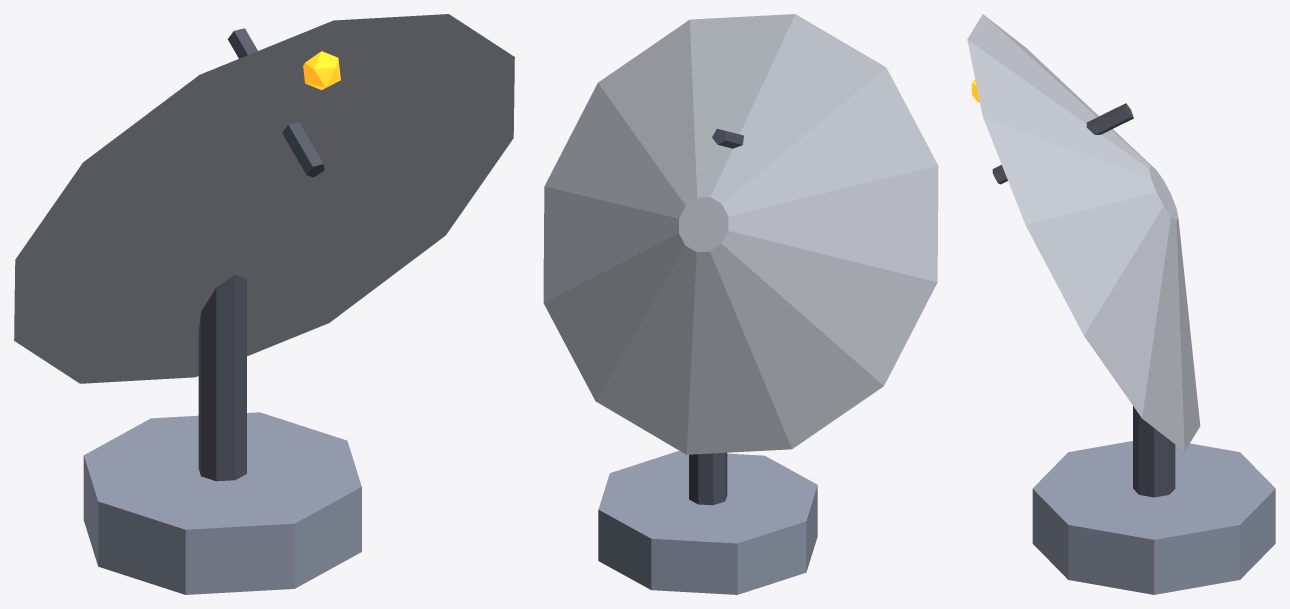
Rendered from stationpack-antenna-dish.glb.
3 renders of one model, left to right at view 1: azimuth 30°, elevation 25°; view 2: azimuth 150°, elevation 25°; view 3: azimuth 270°, elevation 25°, orthographic. The views are drawn at different scales.
Visible parts, largest first — view 1: antenna_dish; view 2: antenna_dish; view 3: antenna_dish.
Boxes of the visible parts, x1,y1,x2,y2 form: antenna_dish: (14,14,514,594); antenna_dish: (543,14,938,594); antenna_dish: (967,14,1275,594).
Size of the model in its own units: 1.6 by 1.83 by 1.02.
